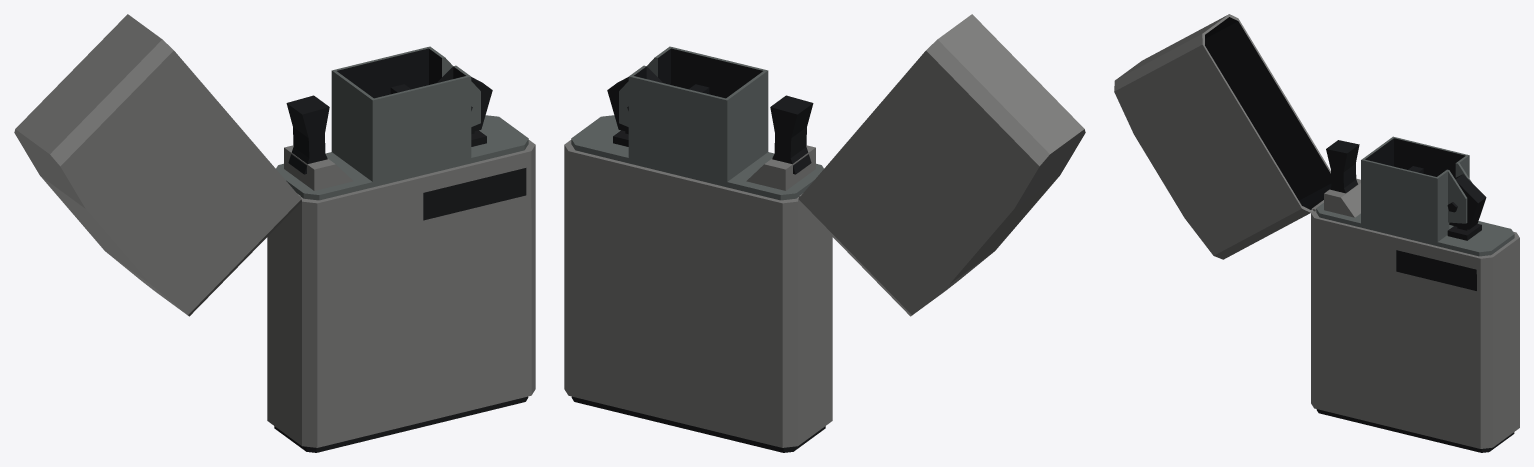
File: Gas_Lighter.gltf
3 renders of one model, left to right at view 1: azimuth 30°, elevation 25°; view 2: azimuth 150°, elevation 25°; view 3: azimuth 330°, elevation 25°, orthographic. The views are drawn at different scales.
Visible parts, largest first — view 1: Gas_Lighter, Case_Cover, Auxiliary_Mechanism; view 2: Gas_Lighter, Case_Cover, Auxiliary_Mechanism; view 3: Gas_Lighter, Case_Cover, Auxiliary_Mechanism.
Boxes of the visible parts, x1,y1,x2,y2 form: Gas_Lighter: [267, 46, 535, 452]; Case_Cover: [14, 14, 301, 316]; Auxiliary_Mechanism: [286, 95, 329, 174]; Gas_Lighter: [564, 46, 832, 452]; Case_Cover: [798, 14, 1085, 316]; Auxiliary_Mechanism: [770, 95, 813, 174]; Gas_Lighter: [1311, 136, 1519, 452]; Case_Cover: [1114, 14, 1331, 259]; Auxiliary_Mechanism: [1326, 140, 1359, 193].
Size of the model in its own units: 0.0651 by 0.0575 by 0.0107.
